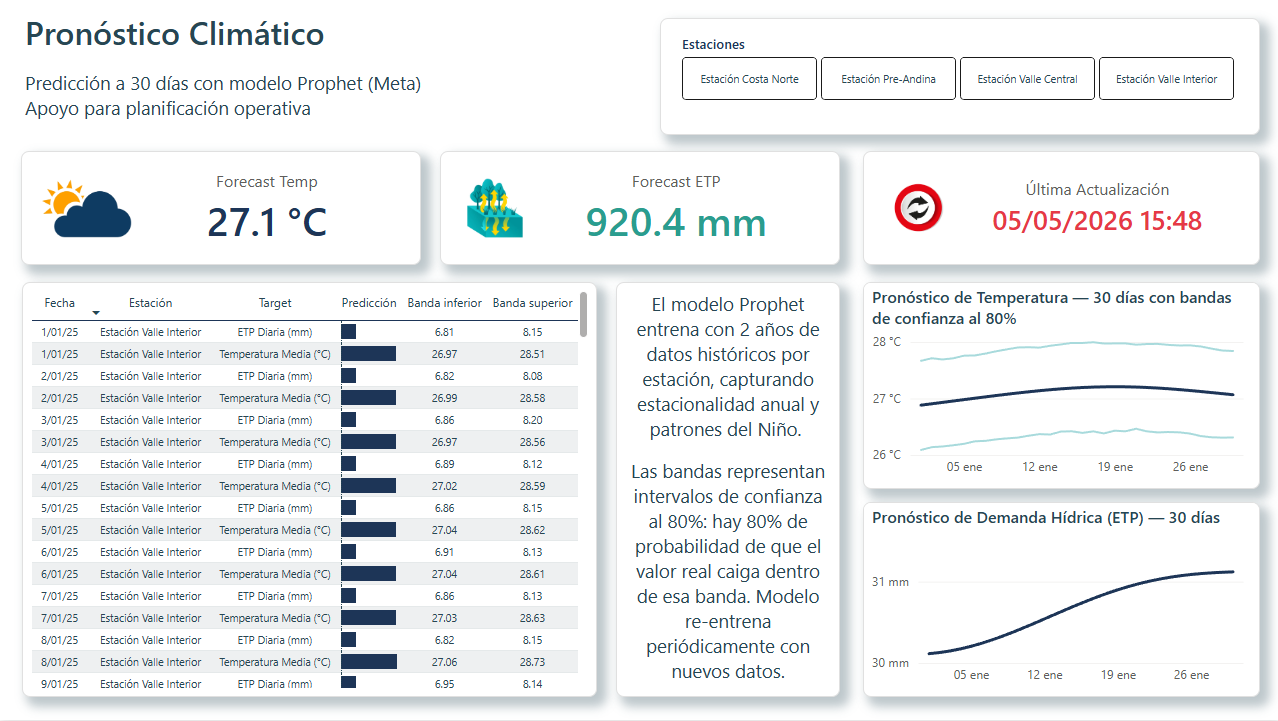

The page's visual inventory and layout, read from the dashboard file:
{"tool":"powerbi","page":{"name":"Pronóstico","canvas":[1280,720],"ordinal":4},"visuals":[{"type":"shape","box":[659.9,18,599.7,116.7],"z":0},{"type":"textbox","box":[20.4,4.9,463,130.3],"z":1000},{"type":"advancedSlicerVisual","title":"Estaciones","fields":{"Values":["dim_station.station_name"]},"box":[676.9,35,565.6,70],"z":2000},{"type":"cardVisual","fields":{"Data":["fact_forecast.Forecast Temp"]},"box":[20.6,150.8,400.4,114],"z":6000},{"type":"cardVisual","fields":{"Data":["fact_forecast.Forecast ETP"]},"box":[439.9,150.8,400.4,114],"z":7000},{"type":"cardVisual","fields":{"Data":["_medidas.Última Actualización"]},"box":[862.7,150.8,396.8,114],"z":8000},{"type":"tableEx","fields":{"Values":["fact_forecast.forecast_date","dim_station.station_name","fact_forecast.target_es","Sum(fact_forecast.forecast_value)","Sum(fact_forecast.forecast_lower_80)","Sum(fact_forecast.forecast_upper_80)"]},"box":[21.5,281.9,575.5,414.8],"z":9000},{"type":"lineChart","title":"Pronóstico de Temperatura — 30 días con bandas de confianza al 80%","fields":{"Category":["fact_forecast.forecast_date"],"Y":["fact_forecast.Forecast Temp","fact_forecast.Forecast Temp Lower","fact_forecast.Forecast Temp Upper"]},"box":[862.7,281.9,396.8,207.4],"z":12000},{"type":"lineChart","title":"Pronóstico de Demanda Hídrica (ETP) — 30 días","fields":{"Category":["fact_forecast.forecast_date"],"Y":["fact_forecast.Forecast ETP"]},"box":[862.7,501.8,396.8,194.8],"z":13000},{"type":"textbox","box":[615.9,281.9,224.4,414.8],"z":13001}]}

Visuals, with their boxes in screenshot pixels (x1, y1, x2, y2), scaled from the page's 1280x720 canvas onto the 1278x721 screenshot:
shape: (left=659, top=18, right=1258, bottom=135)
textbox: (left=20, top=5, right=483, bottom=135)
"Estaciones" advancedSlicerVisual: (left=676, top=35, right=1241, bottom=105)
cardVisual - fact_forecast.Forecast Temp: (left=21, top=151, right=420, bottom=265)
cardVisual - fact_forecast.Forecast ETP: (left=439, top=151, right=839, bottom=265)
cardVisual - _medidas.Última Actualización: (left=861, top=151, right=1258, bottom=265)
tableEx - fact_forecast.forecast_date x dim_station.station_name: (left=21, top=282, right=596, bottom=698)
"Pronóstico de Temperatura — 30 días con bandas de confianza al 80%" lineChart: (left=861, top=282, right=1258, bottom=490)
"Pronóstico de Demanda Hídrica (ETP) — 30 días" lineChart: (left=861, top=502, right=1258, bottom=698)
textbox: (left=615, top=282, right=839, bottom=698)
